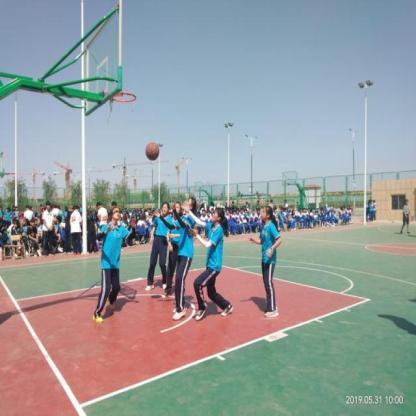basketball: (146, 143, 159, 162)
